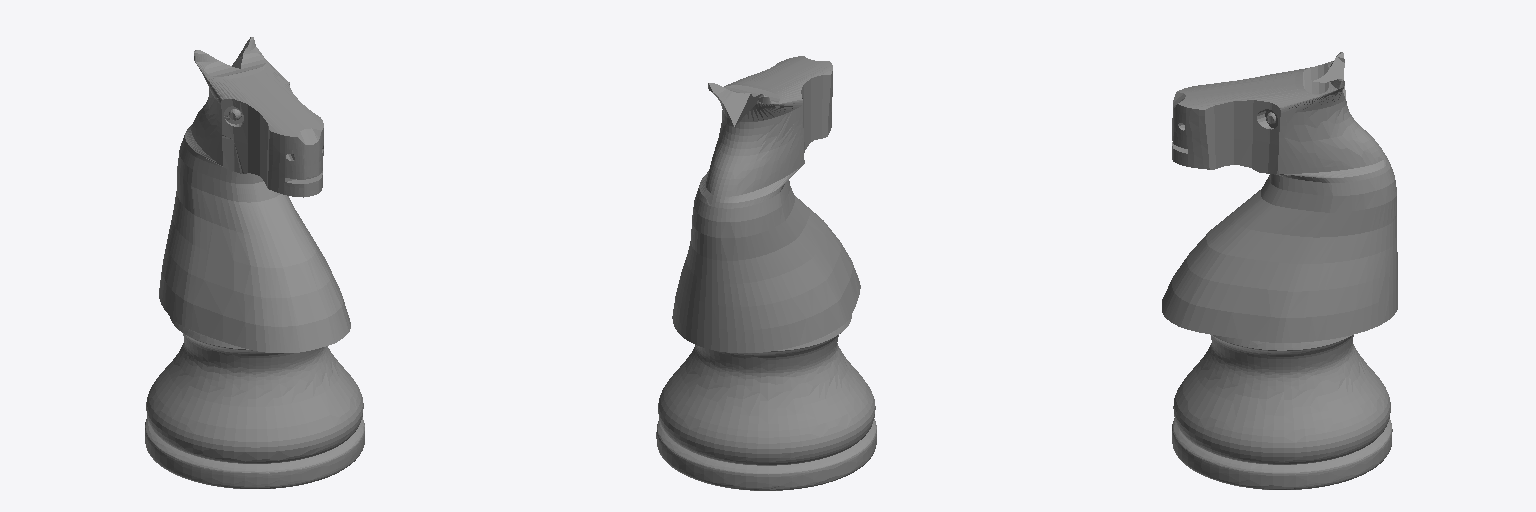
The model's file is preto-cavalo.obj.
3 views of the same model, side by side, from view 1: azimuth 30°, elevation 25°; view 2: azimuth 150°, elevation 25°; view 3: azimuth 270°, elevation 25° (orthographic).
Parts seen in each view (by area): view 1: Object02; view 2: Object02; view 3: Object02.
Boxes of the visible parts, x1,y1,x2,y2 form: Object02: [145, 37, 364, 488]; Object02: [656, 56, 876, 490]; Object02: [1162, 52, 1397, 489].
Size of the model in its own units: 173 by 329 by 186.